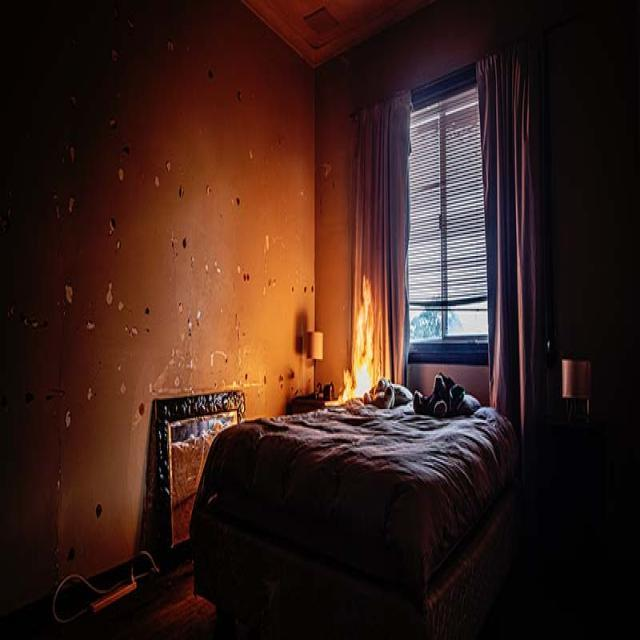Fire: (340, 274, 390, 410)
